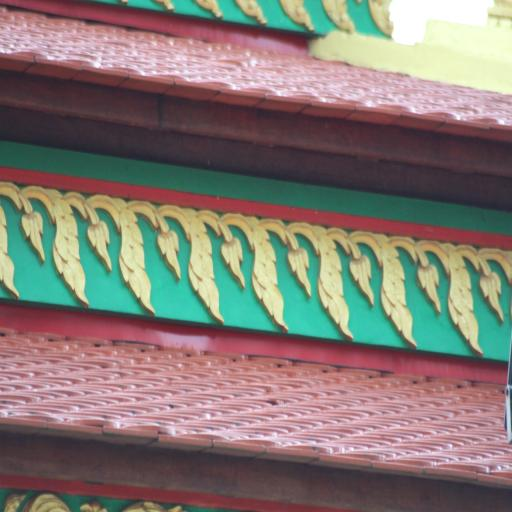la: (418, 224, 512, 352), (18, 181, 112, 304), (292, 217, 377, 349), (358, 221, 442, 348), (94, 186, 178, 304), (169, 195, 240, 327), (236, 208, 309, 335), (0, 178, 26, 296)
